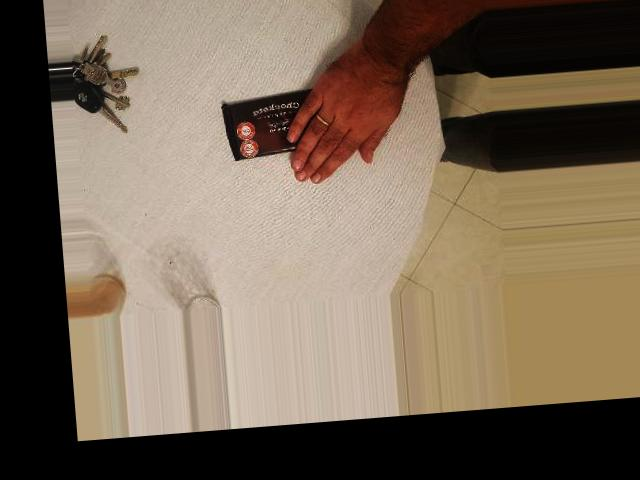chocolate: (215, 76, 380, 170)
